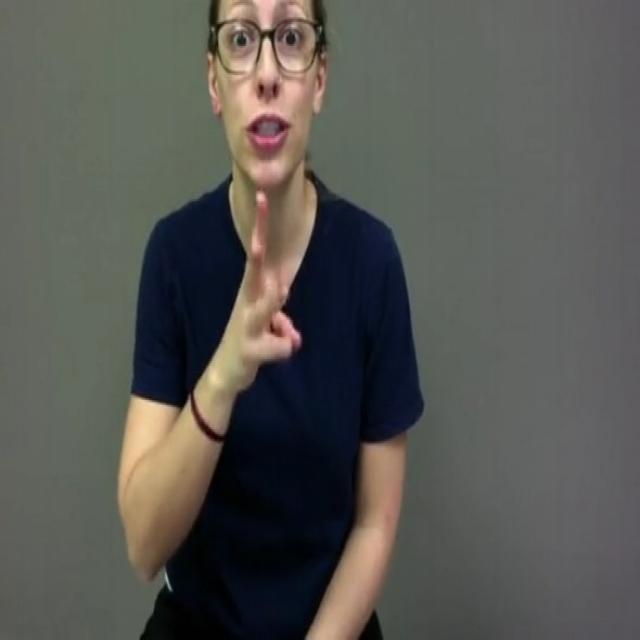water: (218, 186, 310, 388)
